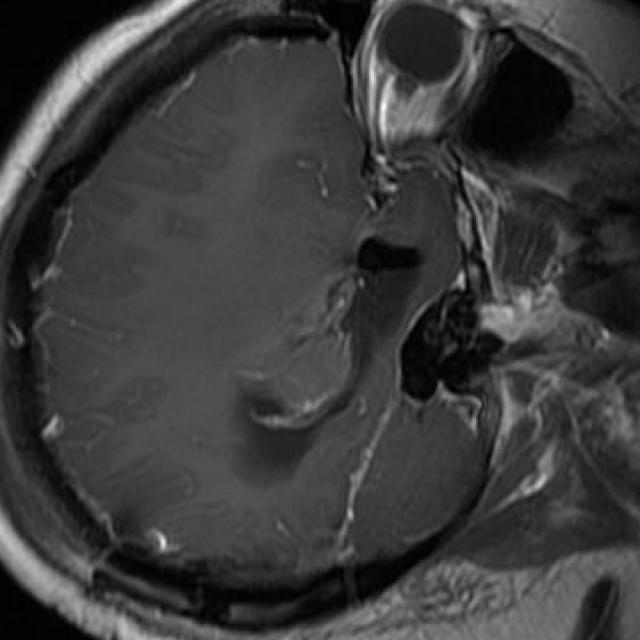glioma: (235, 237, 421, 487)
